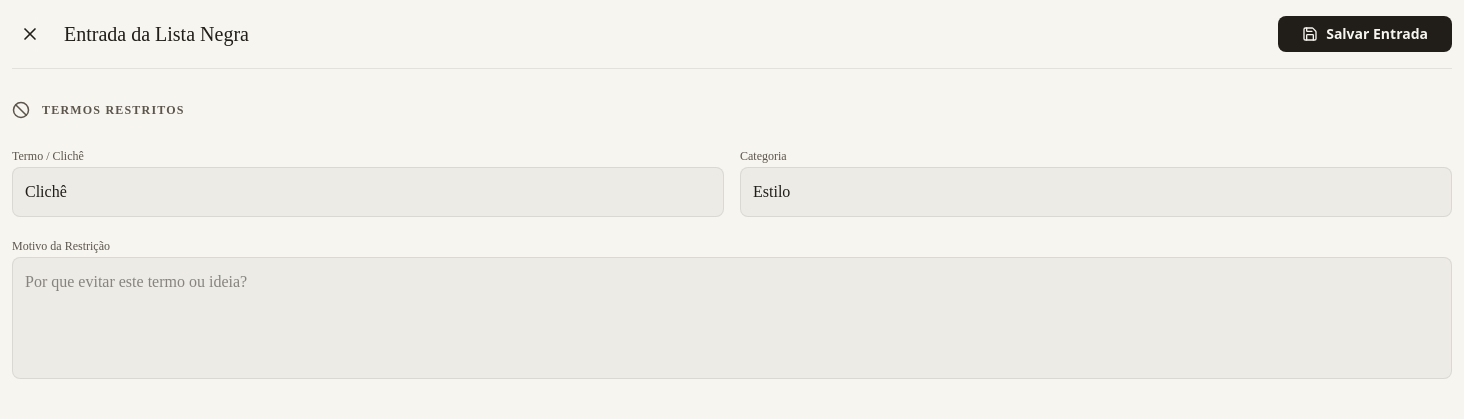
Test case: LoreForms › BlacklistEntryForm › should validate required term
The width and height of the screenshot is (1464, 419).
Clear the field labelled "Termo / Clichê" at (368, 192), box [12,167,724,217]
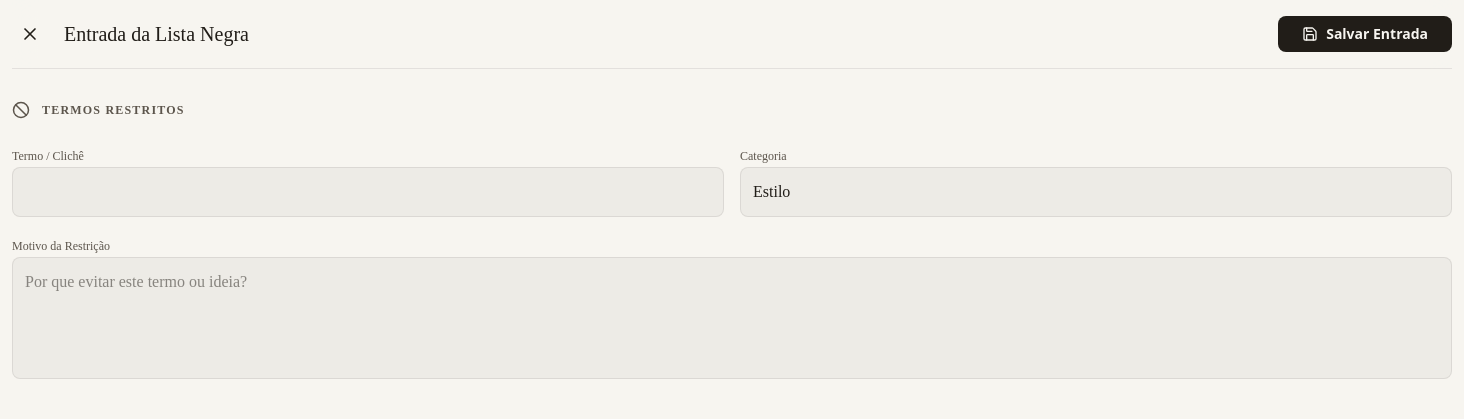
Click the button "Salvar Entrada".
click(1365, 34)  # box [1278,16,1452,52]
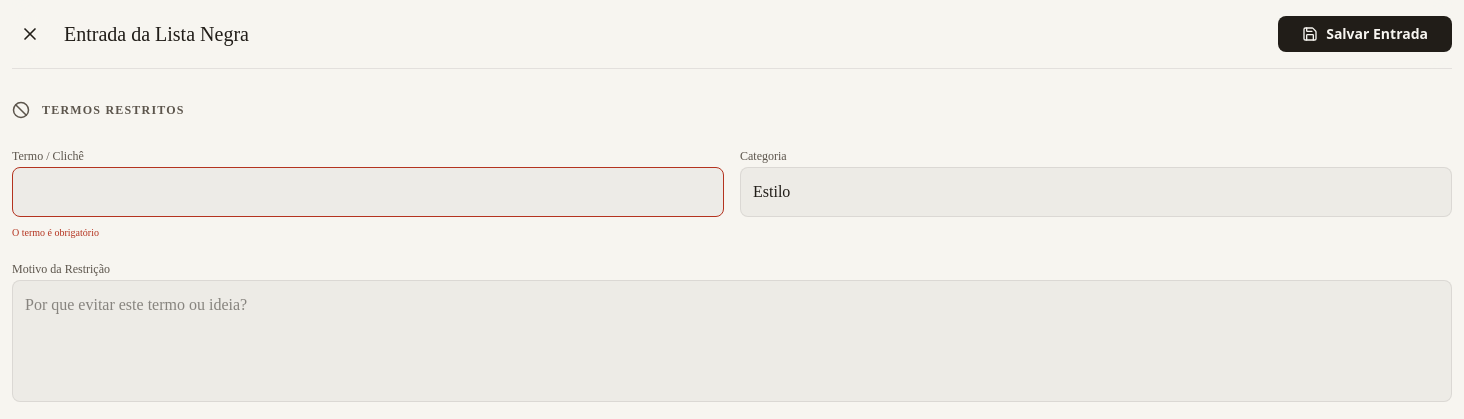
Expected: the text "O termo é obrigatório" is shown, [12,227,99,238]
